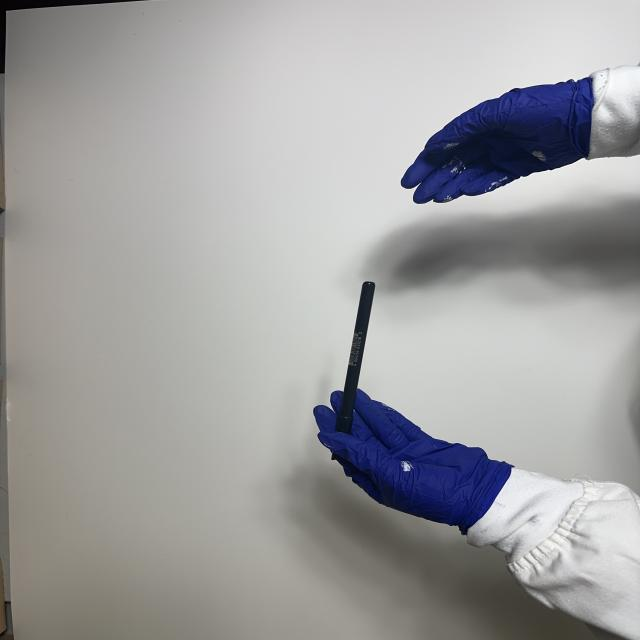gloves_contaminated: (314, 389, 511, 534), (401, 78, 593, 204)
